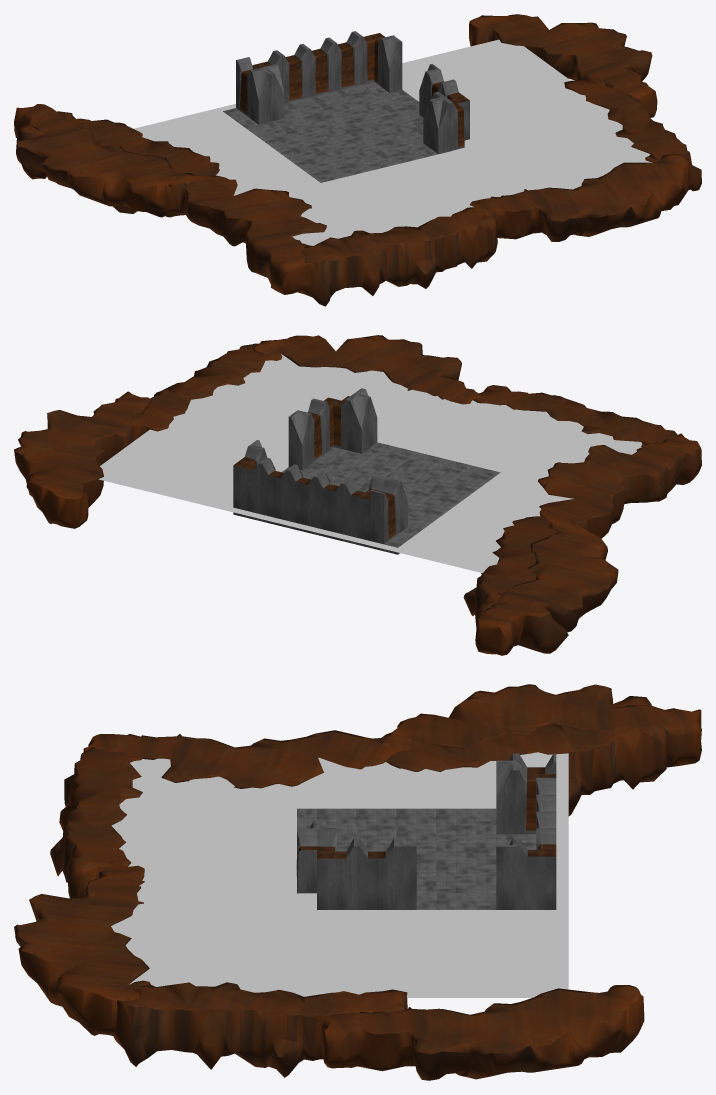
The model's file is LV2Floor.fbx.
The picture shows the model from 3 angles, top to bottom: view 1: azimuth 30°, elevation 25°; view 2: azimuth 150°, elevation 25°; view 3: azimuth 270°, elevation 25°; orthographic projection. The views are drawn at different scales.
Visible parts, largest first — view 1: polySurface114; view 2: polySurface114; view 3: polySurface114.
Boxes of the visible parts, x1,y1,x2,y2 form: polySurface114: (14,14,701,306); polySurface114: (14,335,701,655); polySurface114: (14,684,701,1080).
Bounding box in the file's own units: 557 × 85.94 × 438.
